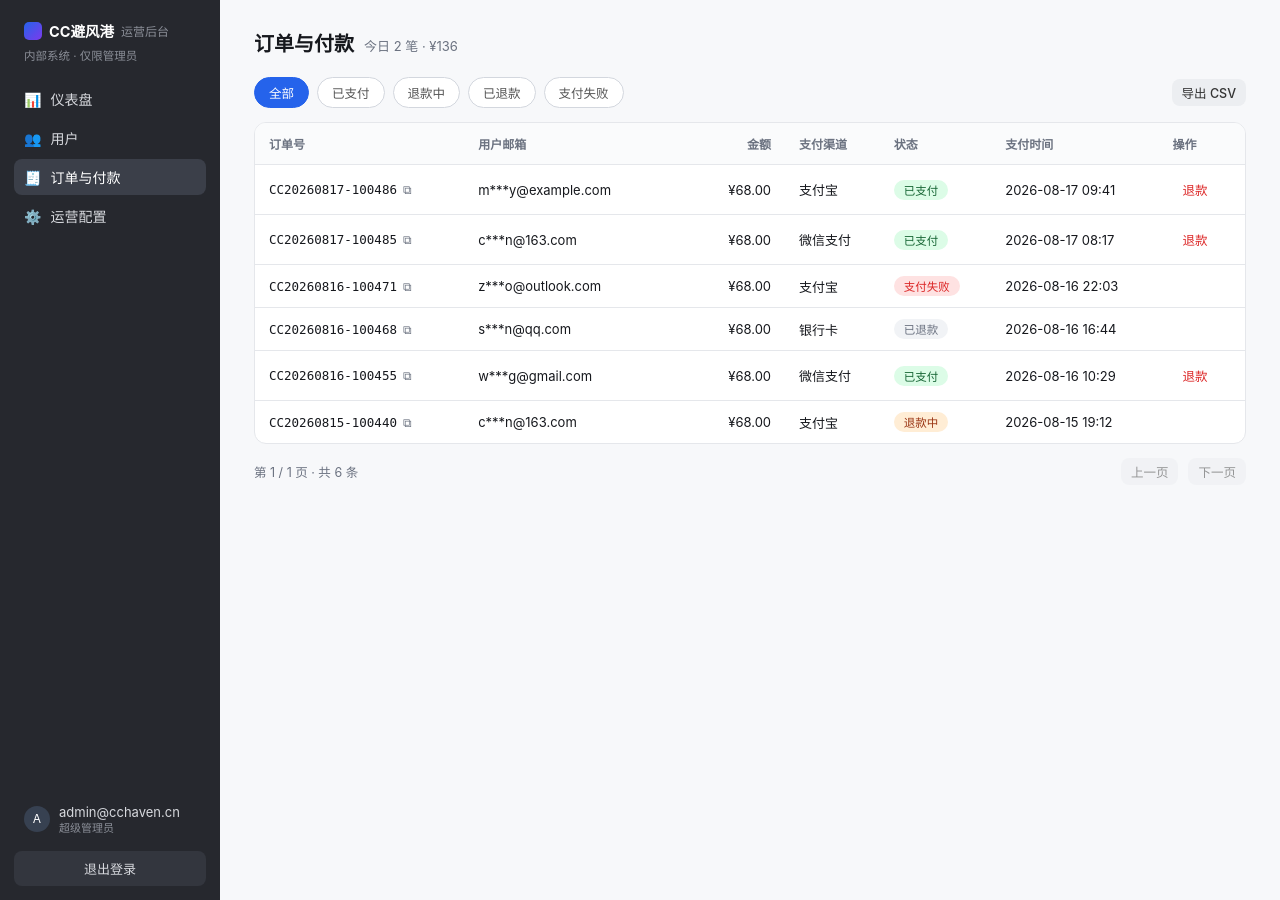
订单与付款页 › 导出被后端 403 挡下时就地说明，不踢回登录页
Expected: the text "今日 2 笔 · ¥136" is shown, [364, 38, 458, 54]
Click the button "导出 CSV" at (1209, 92), box [1172, 79, 1246, 106]
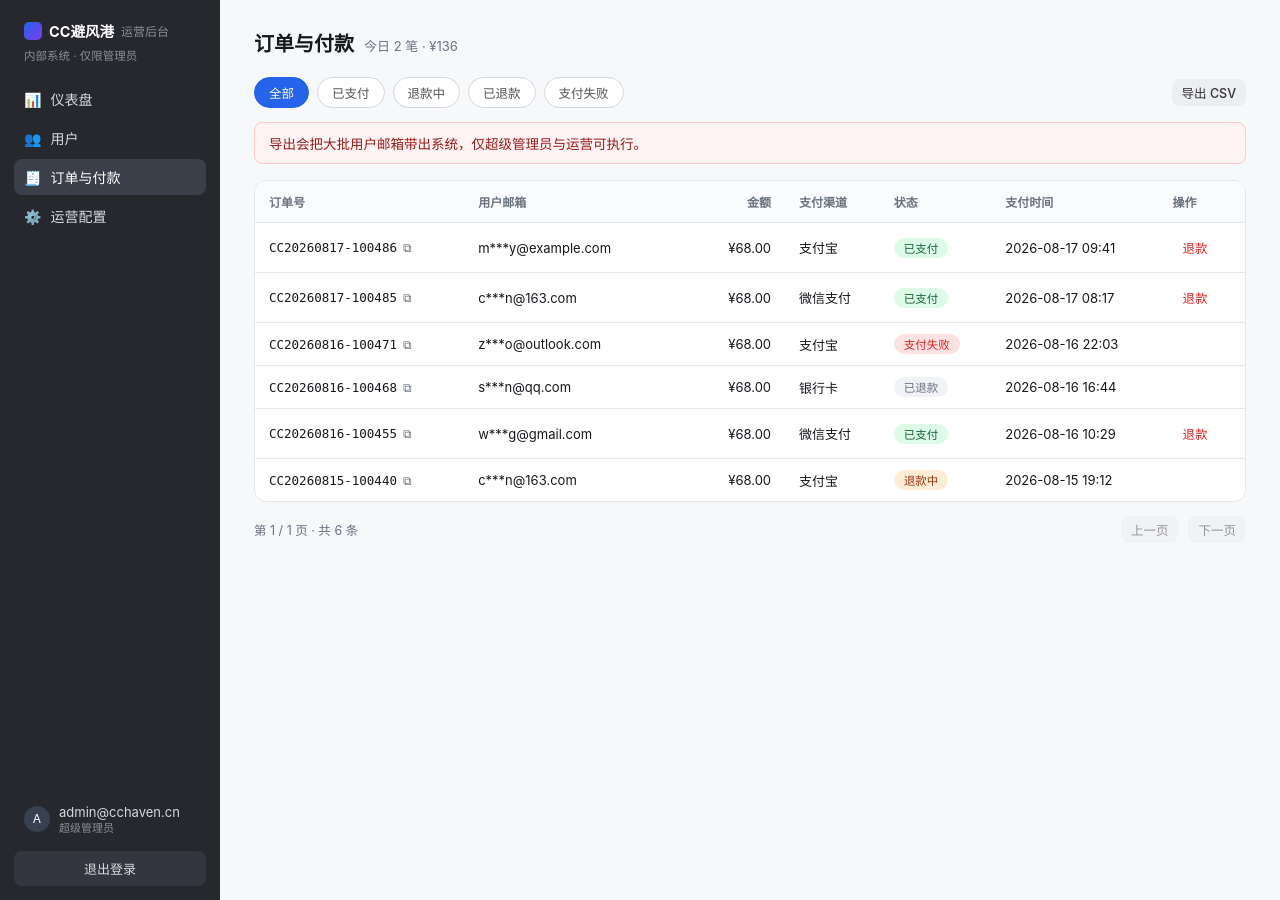
Expected: the navigation bar is shown, [14, 81, 206, 234]
Expected: the message reads "导出会把大批用户邮箱带出系统，仅超级管理员与运营可执行。", [269, 136, 647, 152]
